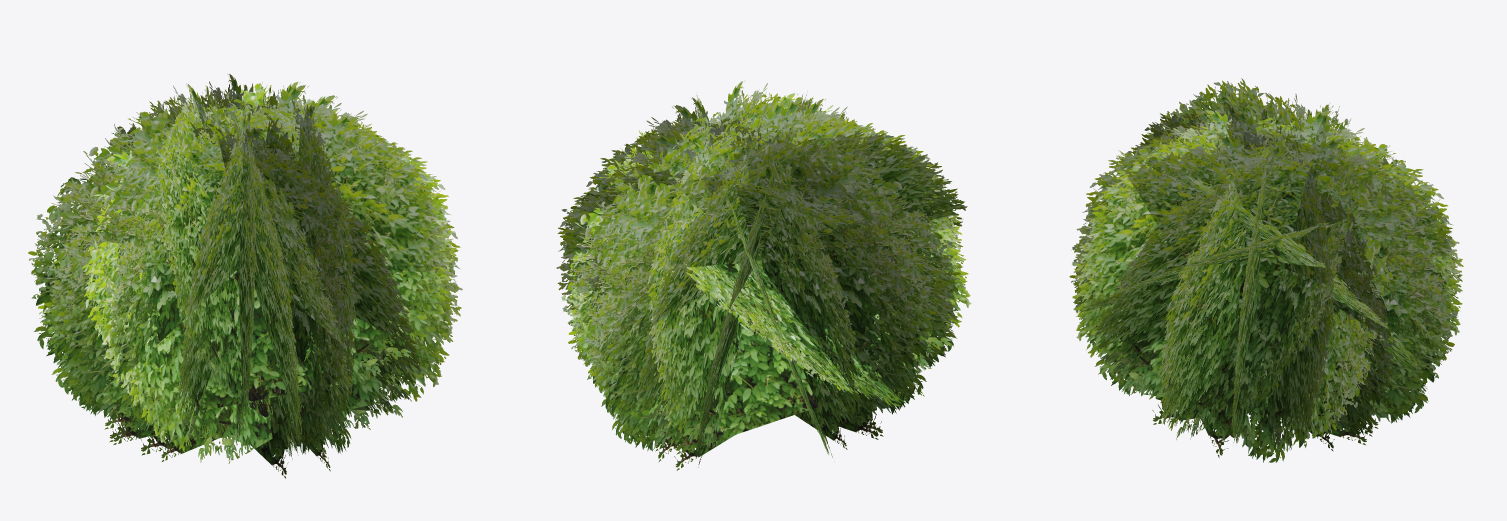
The model's file is SM_Bush2.fbx.
The picture shows the model from 3 angles, left to right: view 1: azimuth 30°, elevation 25°; view 2: azimuth 150°, elevation 25°; view 3: azimuth 270°, elevation 25°; orthographic projection. The views are drawn at different scales.
Visible parts, largest first — view 1: pPlane19; view 2: pPlane19; view 3: pPlane19.
Boxes of the visible parts, x1,y1,x2,y2 form: pPlane19: (28,74,462,478); pPlane19: (556,81,971,470); pPlane19: (1069,78,1463,462).
Bounding box in the file's own units: 113 × 115 × 116.
Materials: 1 (1 with a texture image).
